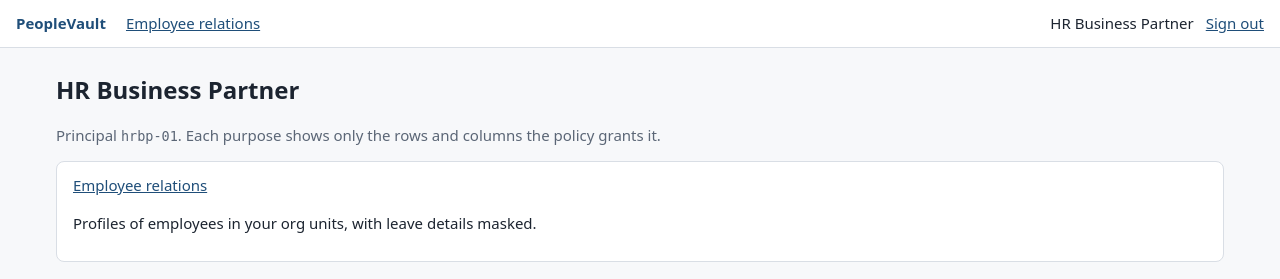
Test: purpose scoping › signs out locally through /dev/logout
What coordinates should you click on to do the following:
click the button "Sign out"
I would click on:
 (1235, 23)
Its box is [1206,12,1264,34].
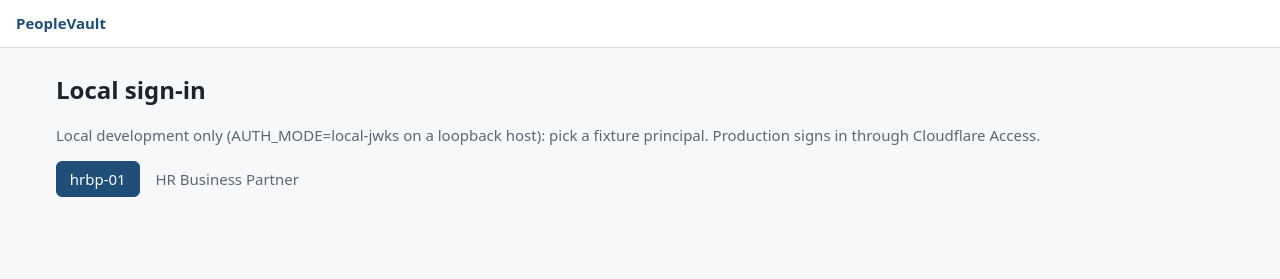
expect the heading "Local sign-in" is shown: met, box [56,72,206,106]
